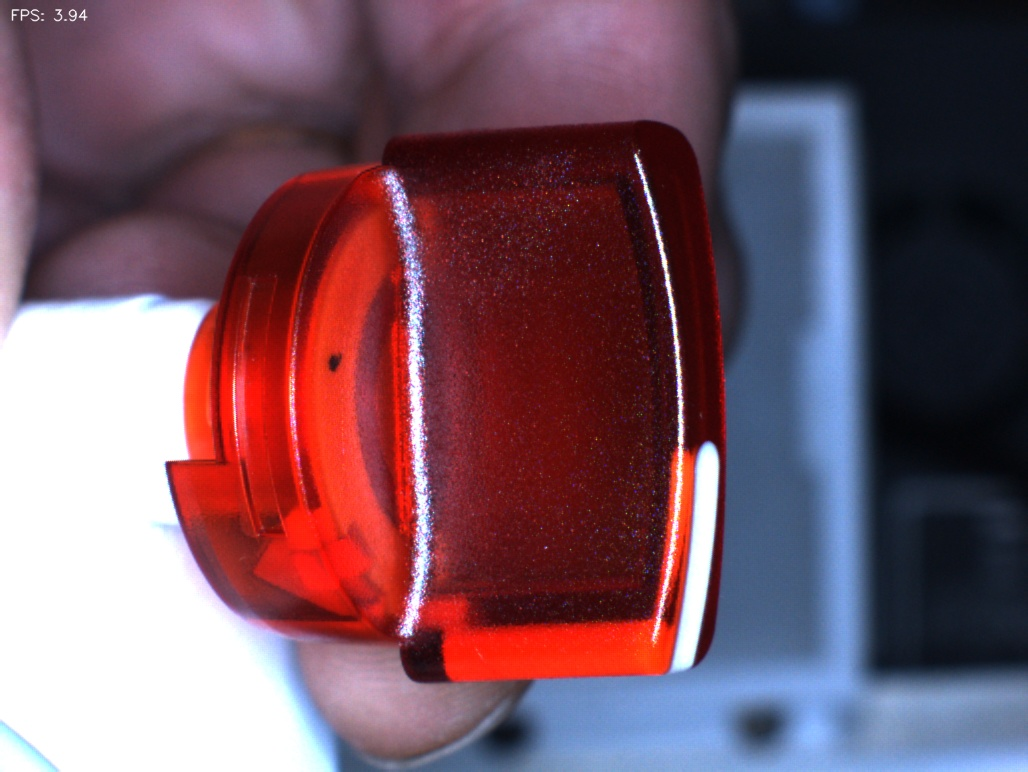PointNoir: (299, 324, 367, 392)
